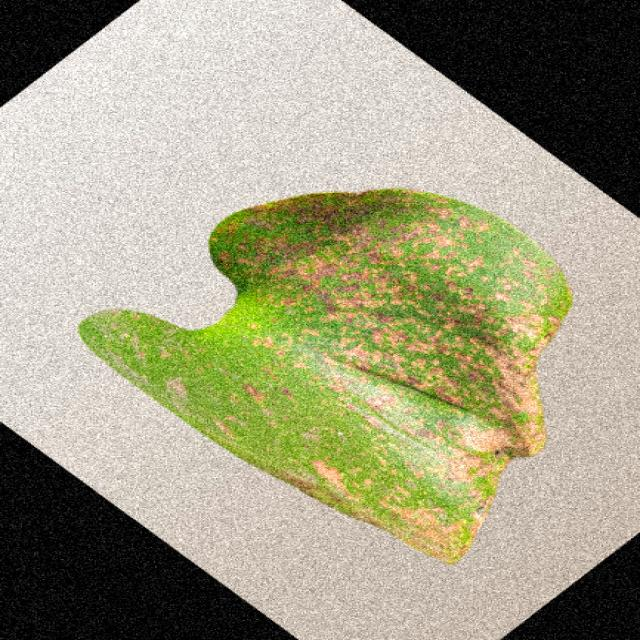daun berpenyakit bercak: (80, 189, 572, 563)
